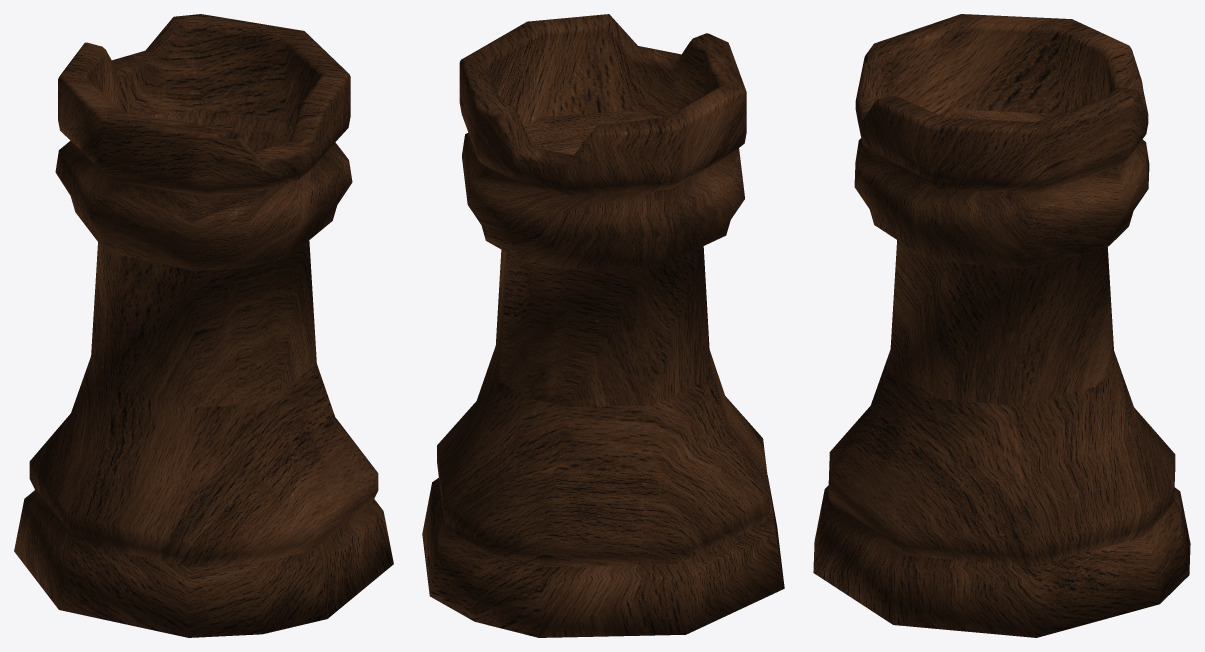
The picture shows the model from 3 angles, left to right: view 1: azimuth 30°, elevation 25°; view 2: azimuth 150°, elevation 25°; view 3: azimuth 270°, elevation 25°; orthographic projection.
Parts seen in each view (by area): view 1: BlackRook; view 2: BlackRook; view 3: BlackRook.
Part boxes in pixels (x1,y1,x2,y2): BlackRook: (14,14,393,637); BlackRook: (422,14,784,637); BlackRook: (813,14,1190,637).
Bounding box in the file's own units: 0.0295 × 0.042 × 0.0295.
Materials: 1 (1 with a texture image).
